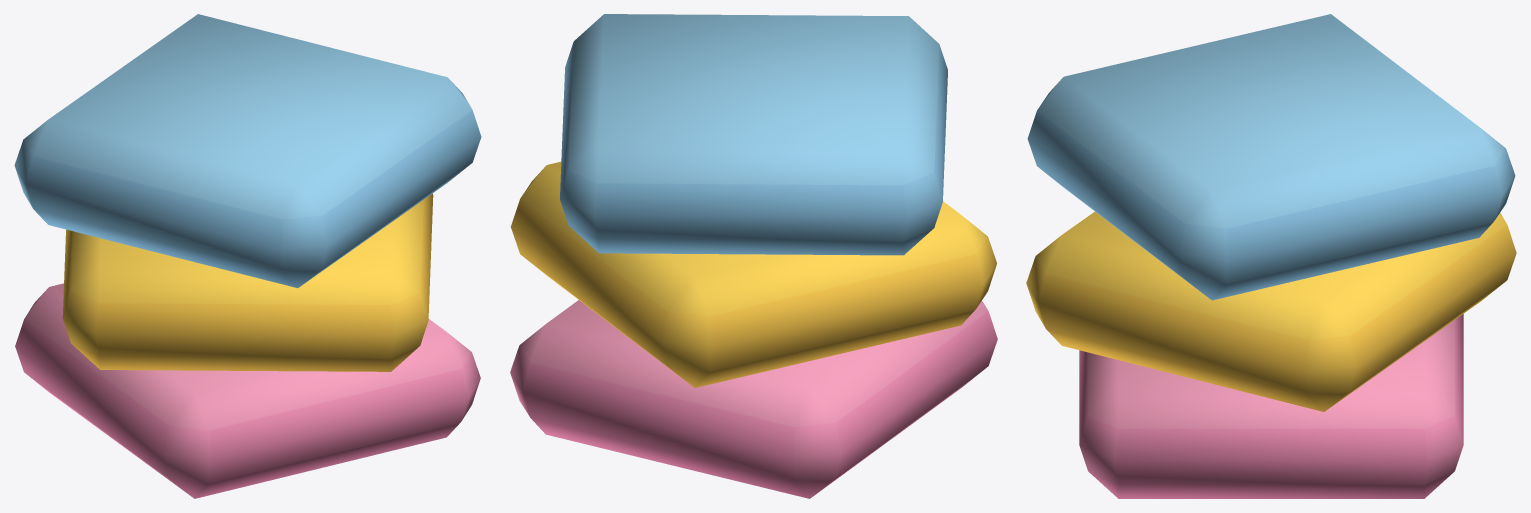
The model's file is Towel Stacked.glb.
3 views of the same model, side by side, from view 1: azimuth 30°, elevation 25°; view 2: azimuth 150°, elevation 25°; view 3: azimuth 270°, elevation 25° (orthographic). The views are drawn at different scales.
Visible parts, largest first — view 1: towel_stacked; view 2: towel_stacked; view 3: towel_stacked.
Boxes of the visible parts, bbox=[...] form: towel_stacked: bbox=[14, 14, 481, 498]; towel_stacked: bbox=[510, 14, 997, 498]; towel_stacked: bbox=[1026, 14, 1516, 498].
Bounding box in the file's own units: 0.802 × 0.6 × 0.802.
1 material, 1 textured.
